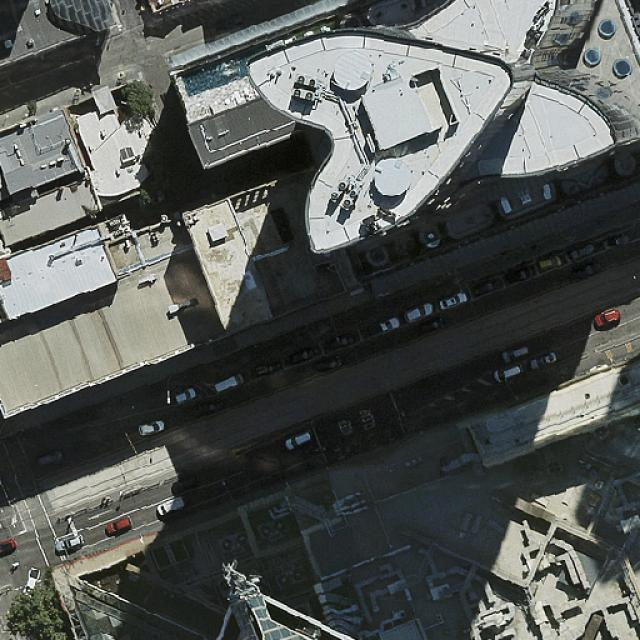Bike-Symbols: (480, 387, 500, 405), (558, 365, 570, 380)
